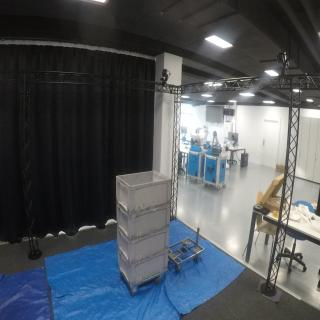Box4G: (115, 170, 174, 214), (117, 205, 172, 243), (117, 228, 172, 265), (118, 249, 170, 288)
